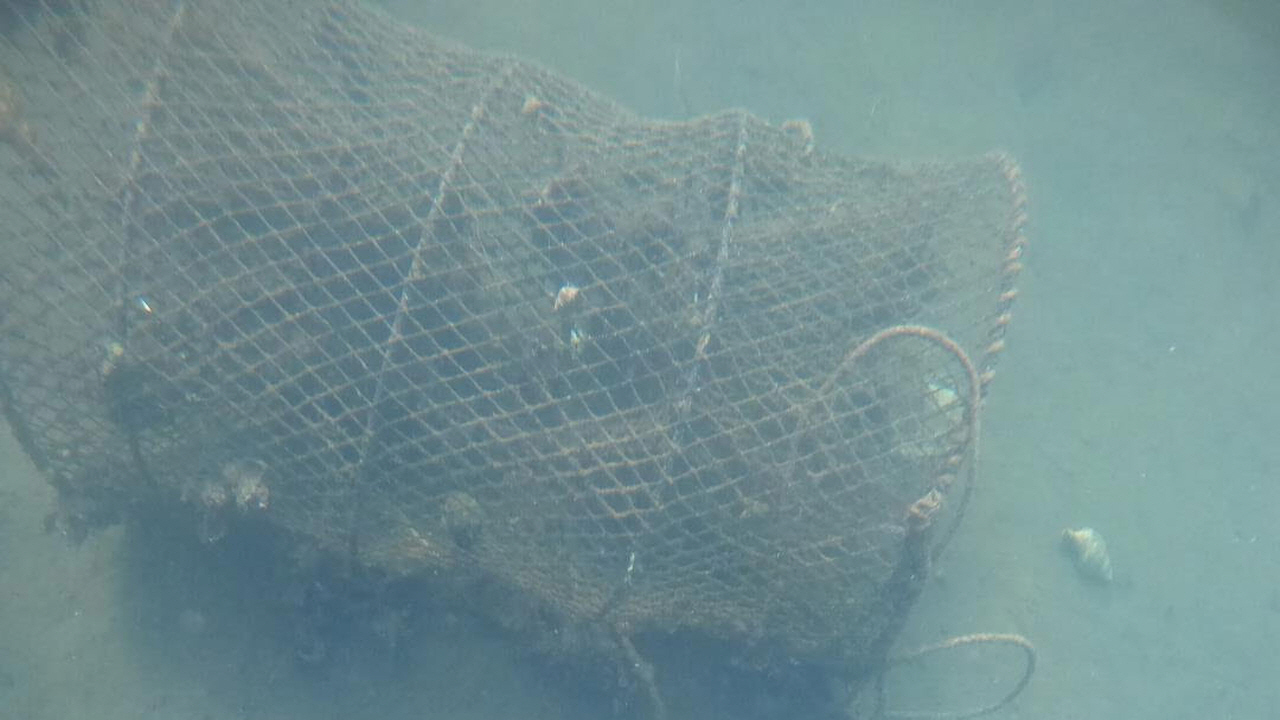rope: (876, 631, 1038, 713)
spring fish trap: (0, 0, 1027, 674)
